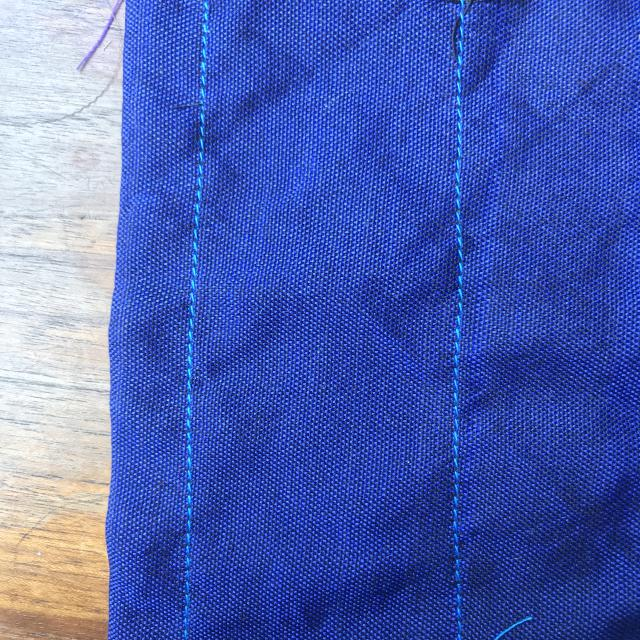good: (174, 198, 218, 364), (446, 192, 474, 372)
